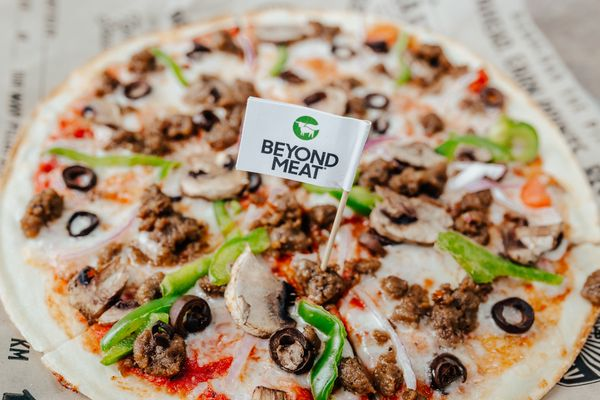curry: (27, 0, 599, 391)
sandwich: (4, 2, 600, 396)
